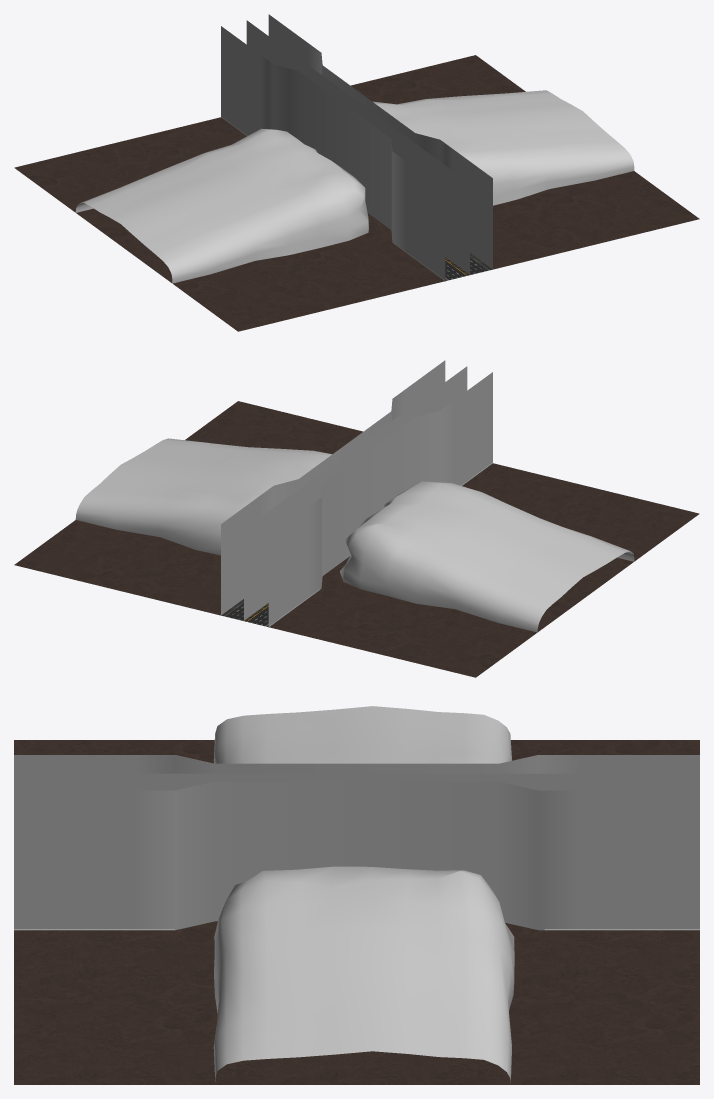
The model's file is Track_C.fbx.
The picture shows the model from 3 angles, top to bottom: view 1: azimuth 30°, elevation 25°; view 2: azimuth 150°, elevation 25°; view 3: azimuth 270°, elevation 25°; orthographic projection. The views are drawn at different scales.
Visible parts, largest first — view 1: Cliff_C, Sand_C, Wall_C, AI_C, Road_C; view 2: Cliff_C, Sand_C, Wall_C, AI_C, Road_C; view 3: Wall_C, Sand_C, Cliff_C, AI_C, Guard_C.
Boxes of the visible parts, left/top/right/bottom form: Cliff_C: left=75, top=90, right=634, bottom=283; Sand_C: left=14, top=55, right=699, bottom=331; Wall_C: left=221, top=14, right=492, bottom=281; AI_C: left=246, top=20, right=469, bottom=274; Road_C: left=445, top=253, right=492, bottom=280; Cliff_C: left=75, top=438, right=634, bottom=632; Sand_C: left=14, top=401, right=699, bottom=677; Wall_C: left=221, top=360, right=492, bottom=627; AI_C: left=244, top=366, right=467, bottom=620; Road_C: left=221, top=599, right=268, bottom=626; Wall_C: left=14, top=755, right=699, bottom=930; Sand_C: left=14, top=740, right=699, bottom=1084; Cliff_C: left=213, top=706, right=514, bottom=1083; AI_C: left=15, top=773, right=698, bottom=790; Guard_C: left=14, top=929, right=699, bottom=930.
Size of the model in its own units: 169 by 34.15 by 142.
